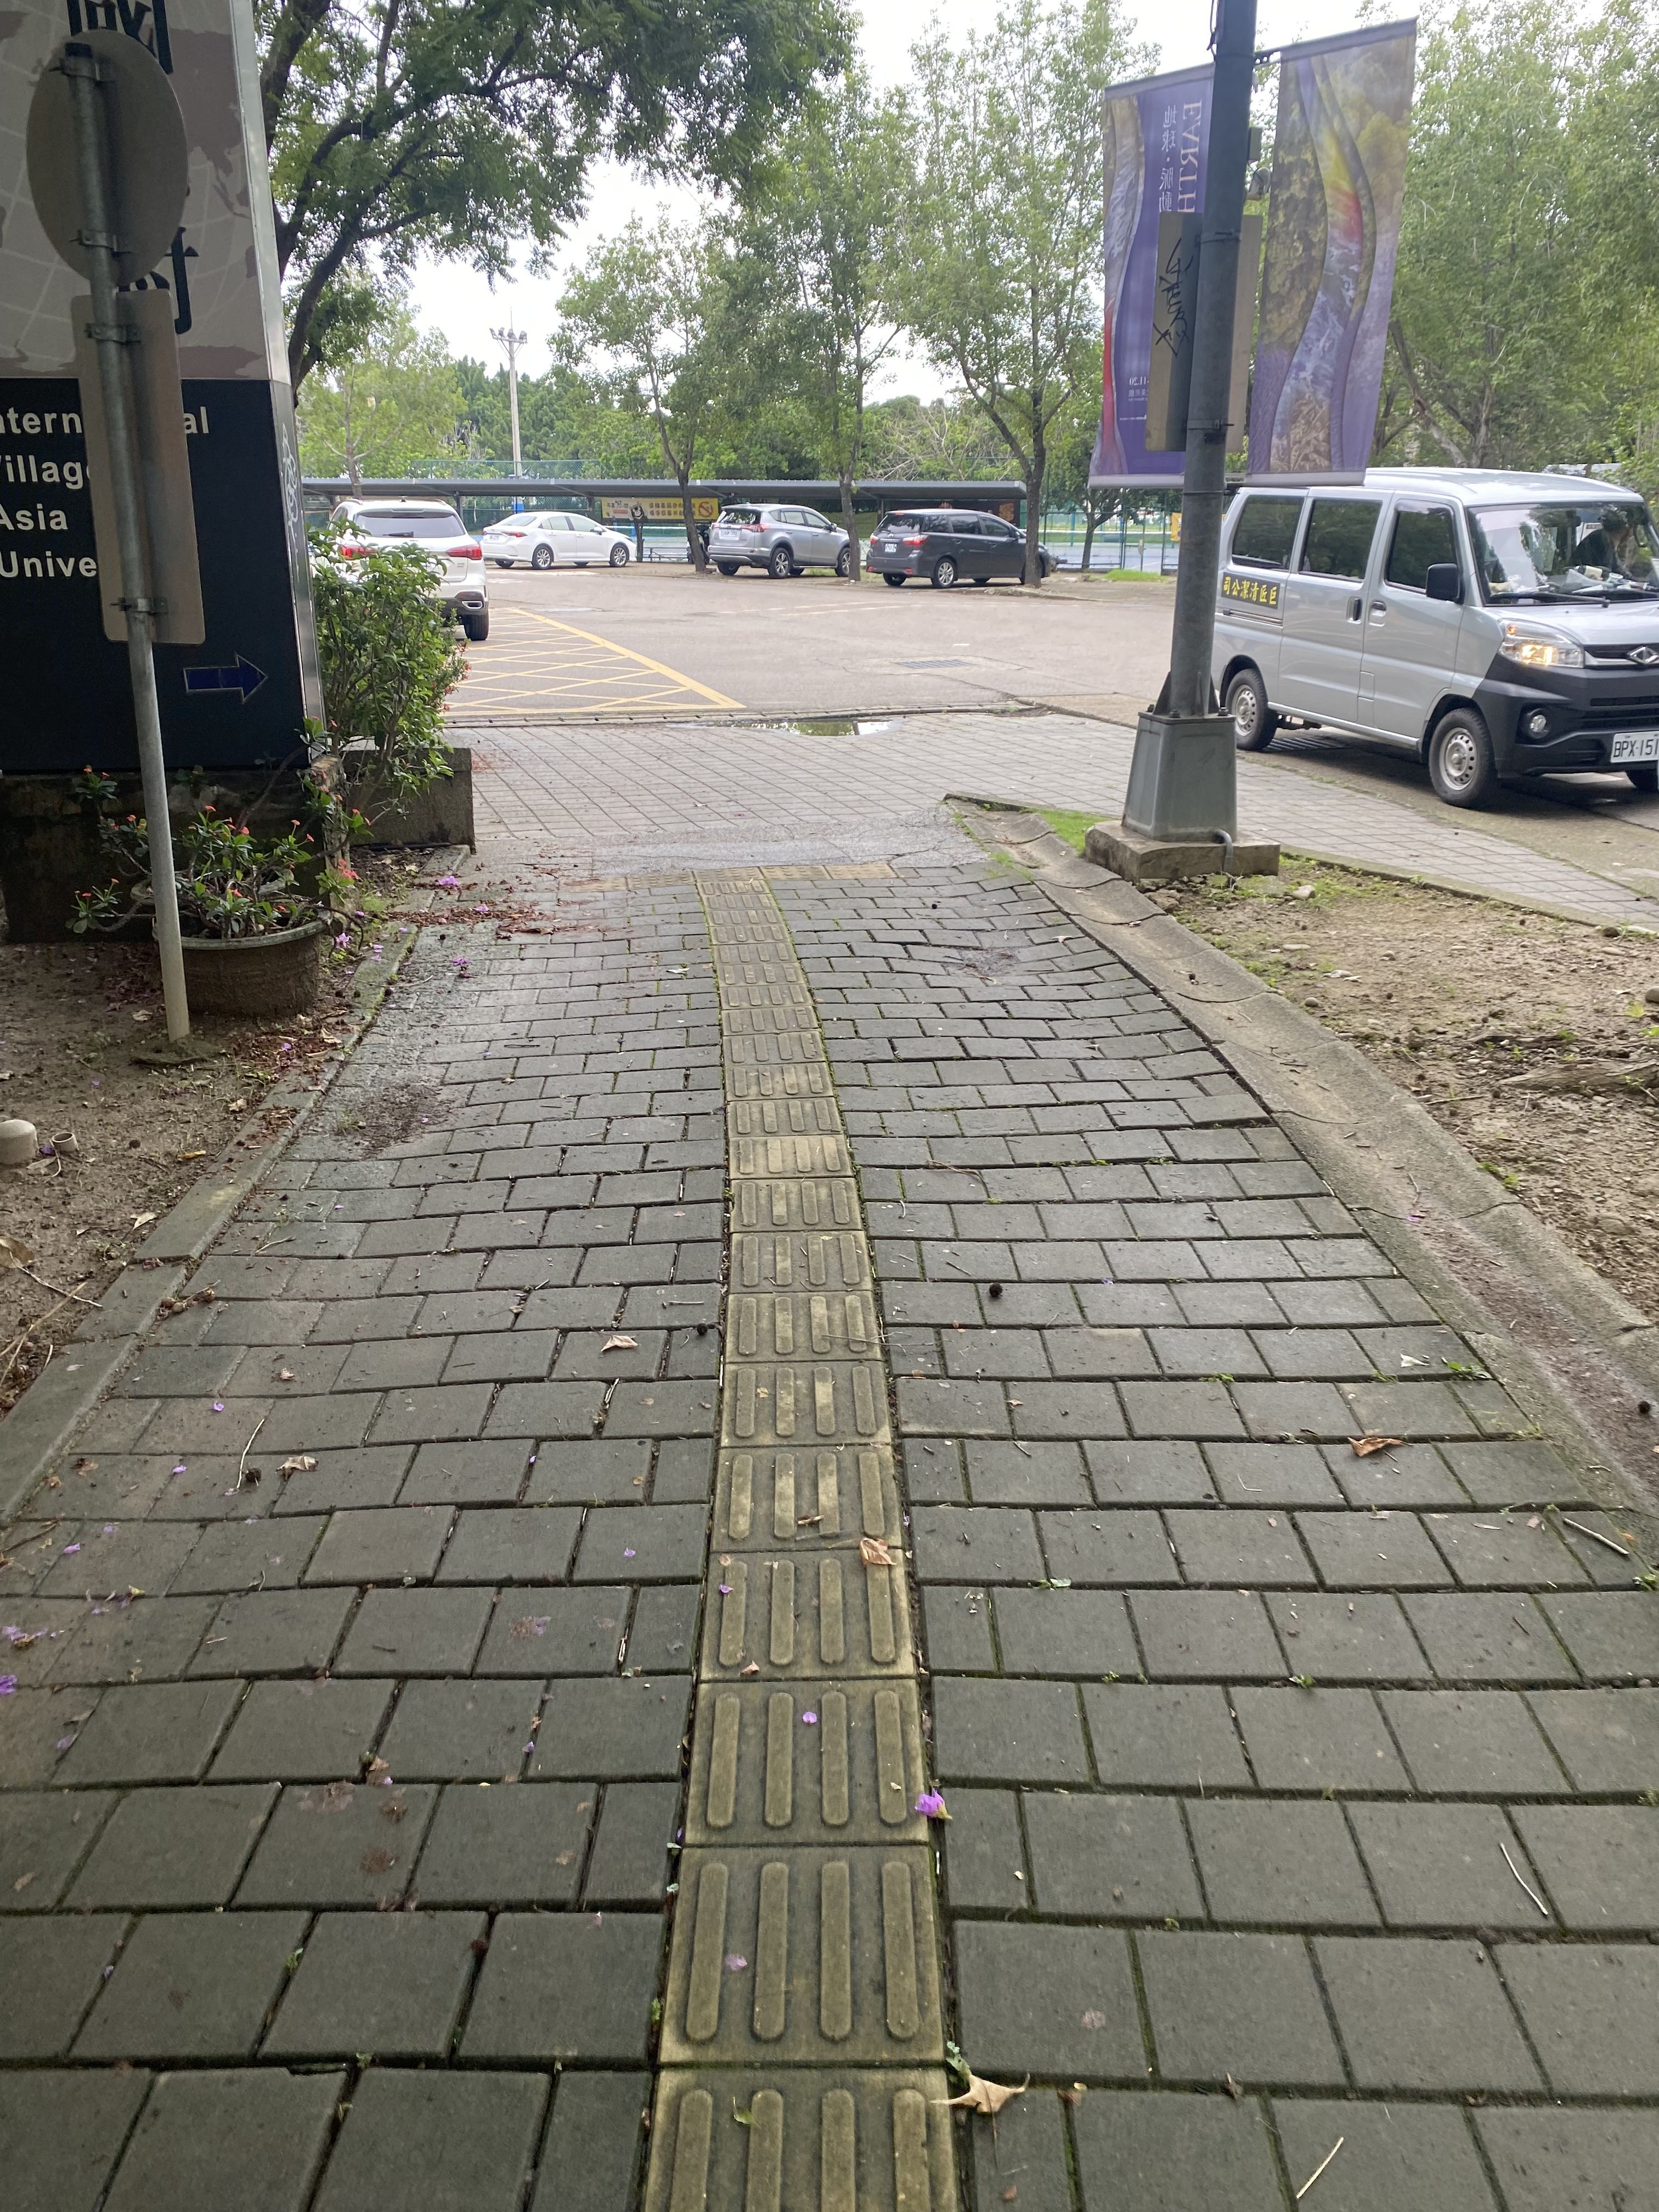sidewalk: (0, 679, 1659, 2212)
